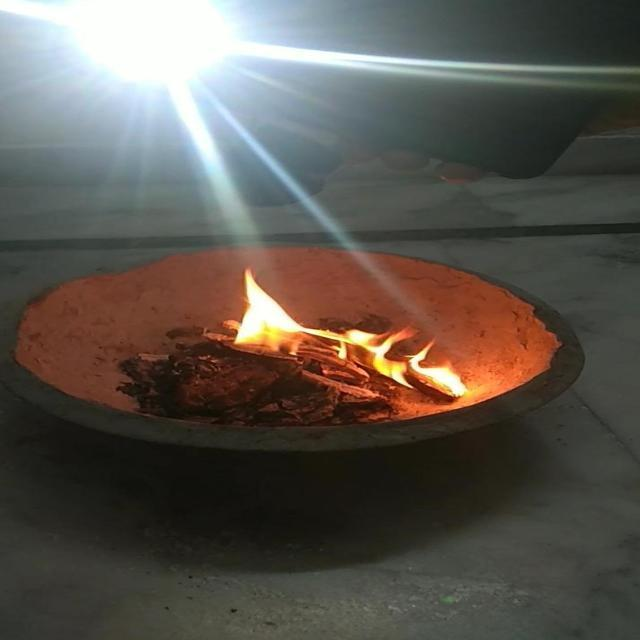smoke: (226, 267, 468, 402)
